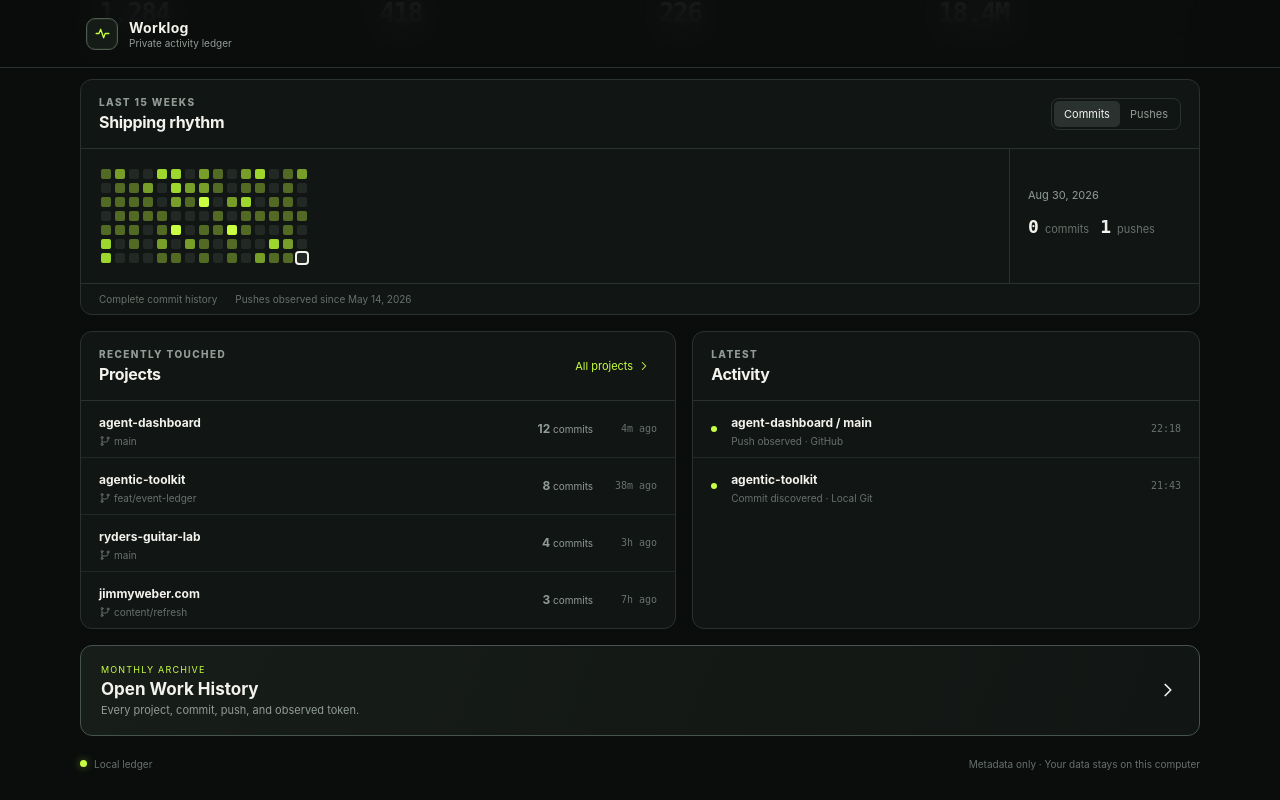
it: compact work ledger › searches project names and commit subjects without dropping the full source list
(page scrolled)
Click the button "Open Work History".
click(153, 669)  # box [80,645,1200,736]
(page scrolled)
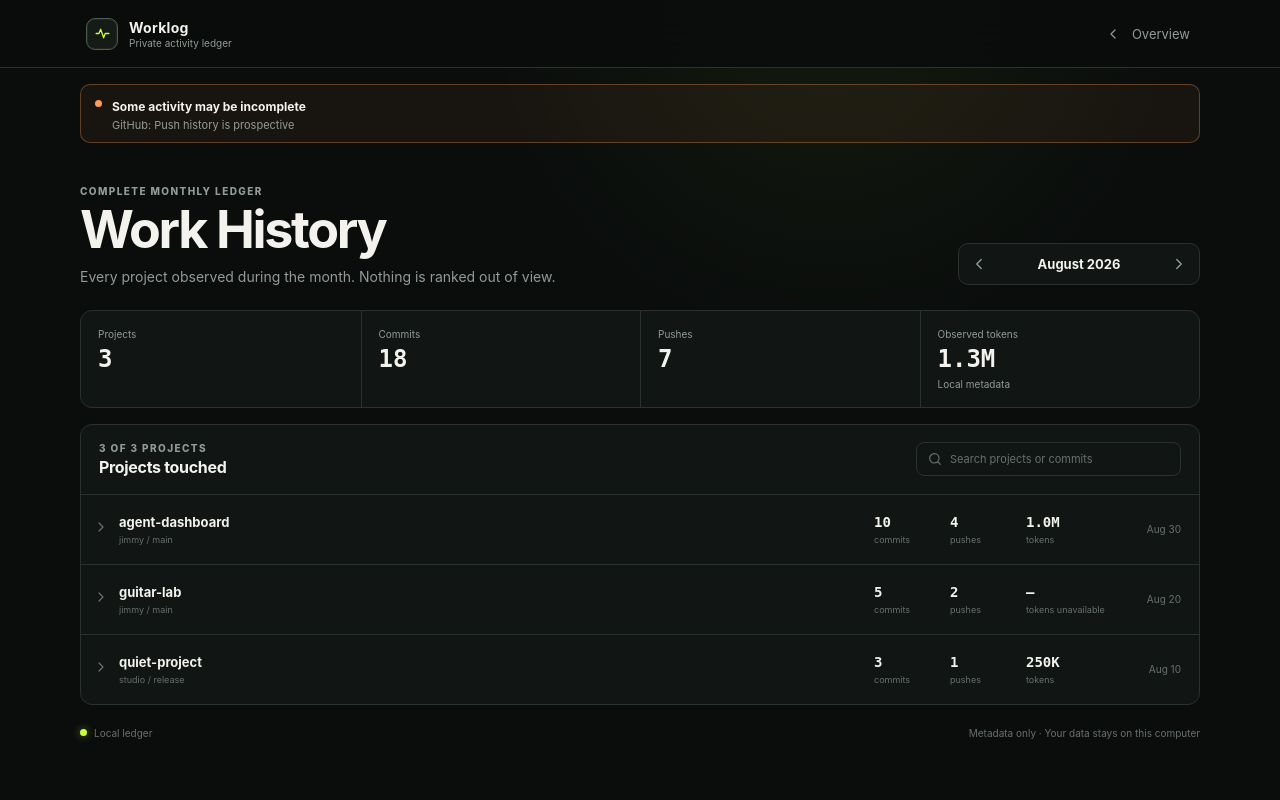
Type "monthly" into the search field with placeholder "Search projects or commits".
click(1060, 460); type("monthly")  # box [950,444,1170,476]
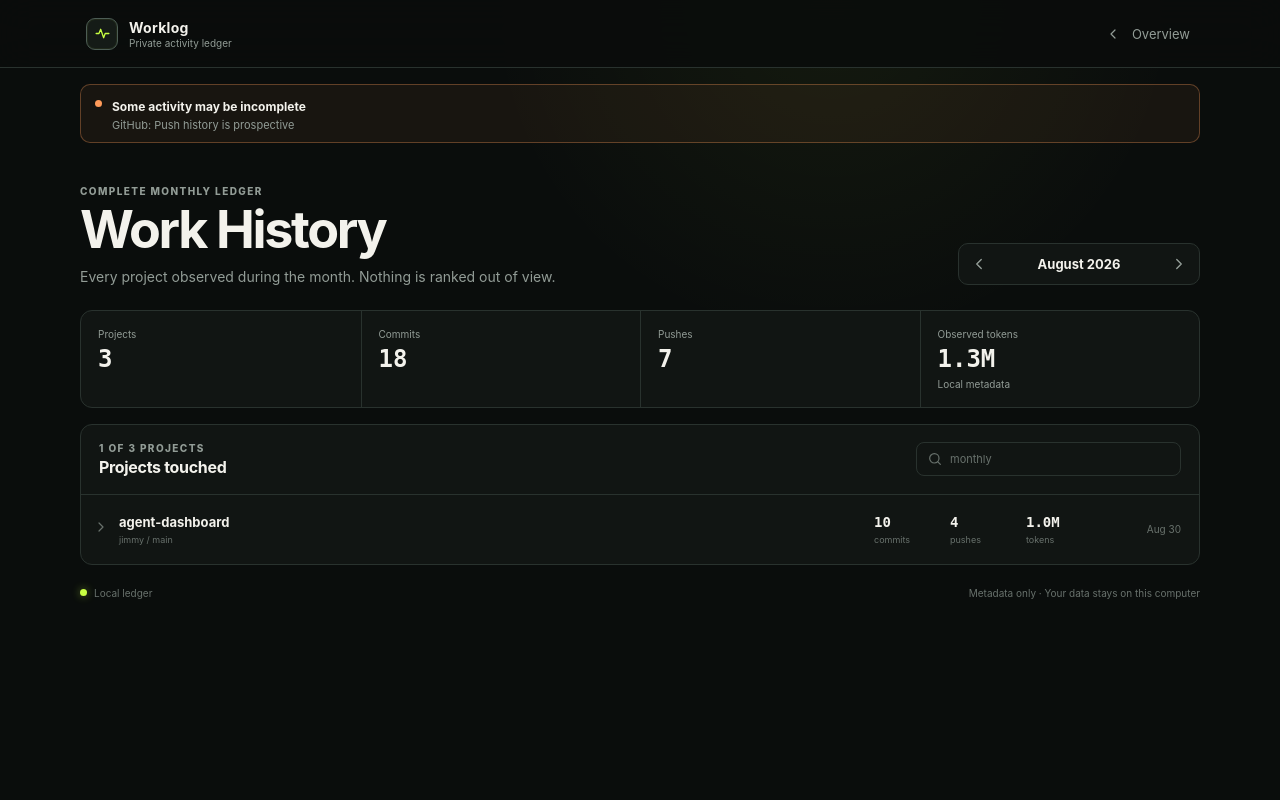
Expected: the text "agent-dashboard" is shown, [119,514,229,530]
Expected: the heading "guitar-lab" is gone
Expected: the text "1 of 3 projects" is shown, [99,442,205,454]
